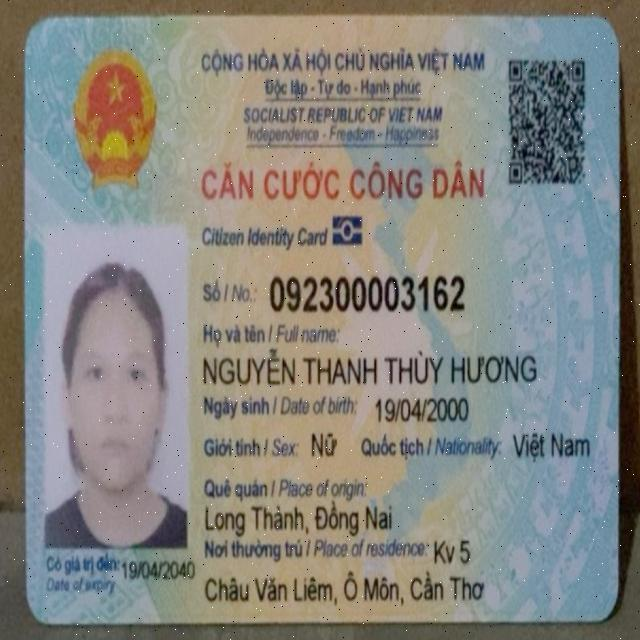current_place: (204, 567, 489, 610), (430, 531, 480, 572)
dob: (375, 393, 473, 426)
expire_date: (119, 557, 197, 586)
gender: (310, 426, 339, 461)
id: (268, 271, 467, 315)
name: (201, 341, 544, 390)
nationality: (509, 424, 593, 466)
origin_place: (198, 502, 400, 537)
